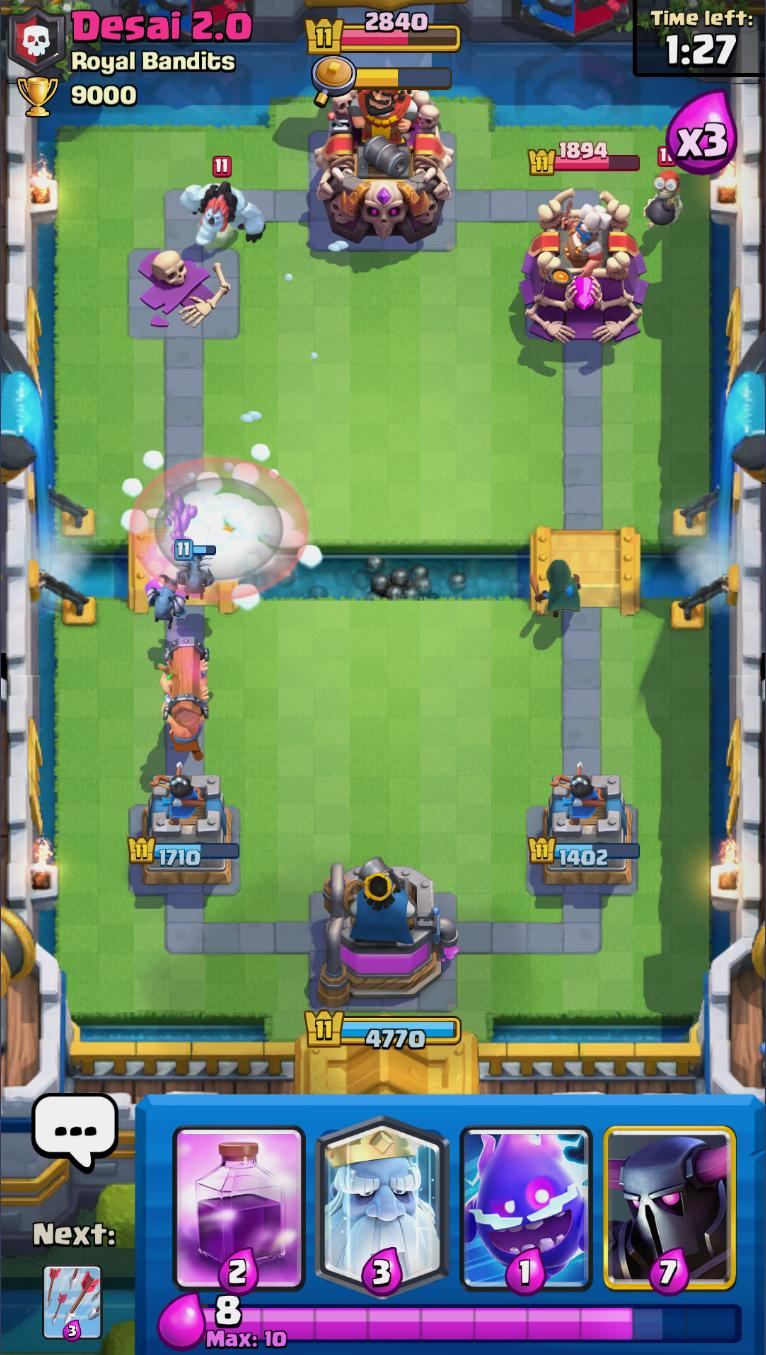ArrowNext: (41, 1264, 103, 1315)
Bomber: (644, 144, 681, 227)
Chef: (553, 198, 616, 277)
ElectroSpiritDeck: (455, 1096, 598, 1295)
Elixir: (204, 1293, 747, 1350)
EnemyTower: (517, 186, 649, 348)
EnemyTowerBrocken: (122, 240, 243, 340)
IceGolem: (178, 155, 269, 251)
KingTower: (312, 82, 455, 245)
KingTowerHP: (303, 9, 463, 56)
MyBandit: (530, 558, 589, 622)
MyBattleRam: (155, 631, 216, 759)
MyKingHP: (300, 1006, 462, 1051)
MyKingTower: (316, 851, 462, 1009)
MyMinion: (169, 541, 217, 598), (139, 573, 185, 628)
MyPrincessTower: (125, 770, 242, 892), (528, 775, 639, 894)
MyPrincessTowerHP: (528, 833, 642, 869), (128, 834, 244, 868)
PekkaDeck: (601, 1096, 741, 1296)
RageDeck: (166, 1095, 313, 1287)
RoyaleGhostDeck: (308, 1098, 451, 1296)
TowerPrincessHP: (527, 140, 643, 179)
